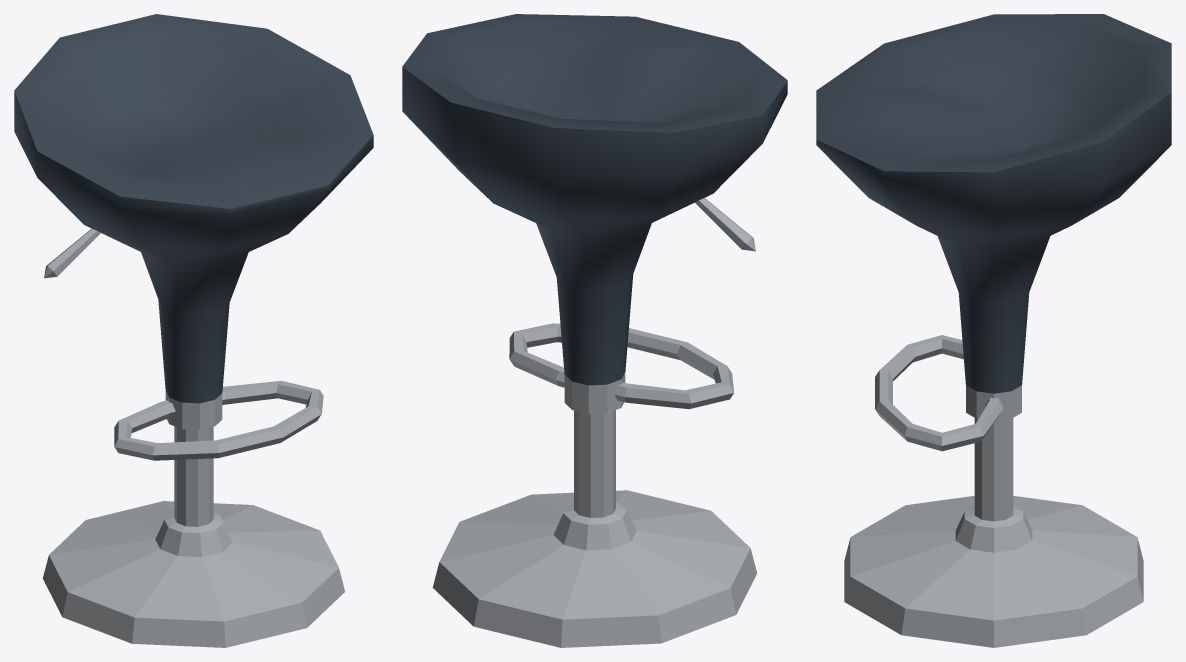
The model's file is Chair_05.FBX.
The picture shows the model from 3 angles, left to right: view 1: azimuth 30°, elevation 25°; view 2: azimuth 150°, elevation 25°; view 3: azimuth 270°, elevation 25°; orthographic projection. The views are drawn at different scales.
Visible parts, largest first — view 1: Chair_006; view 2: Chair_006; view 3: Chair_006.
Part boxes in pixels (box(x1,y1,x2,y2)): Chair_006: box(14, 14, 373, 647); Chair_006: box(402, 14, 787, 647); Chair_006: box(816, 14, 1171, 647).
Bounding box in the file's own units: 48.15 × 73.01 × 45.8.
